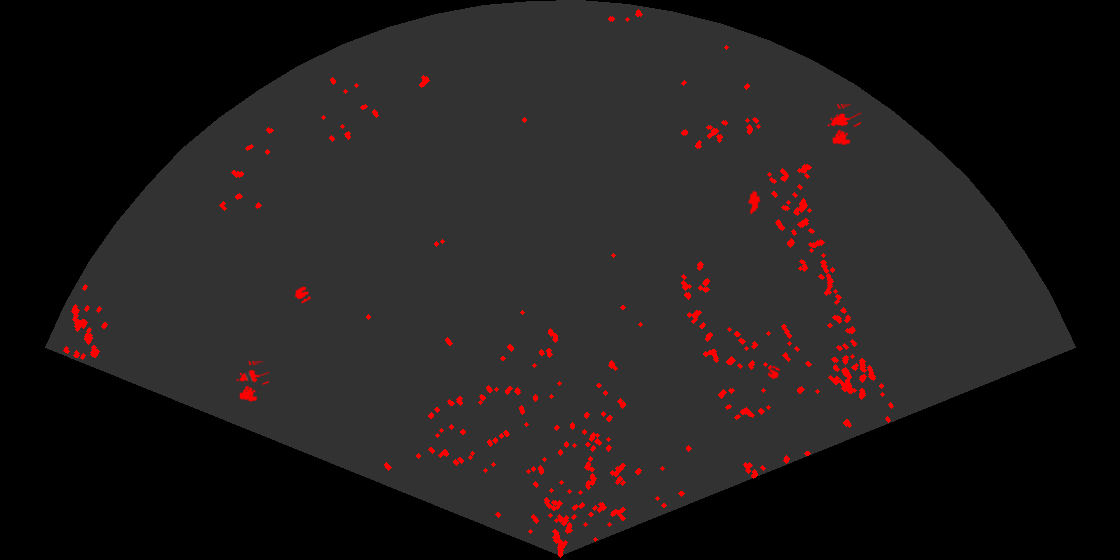AUV: (747, 189, 762, 216)
ball: (293, 285, 313, 305), (766, 364, 782, 381)
cage: (826, 104, 861, 147), (235, 361, 269, 403)
